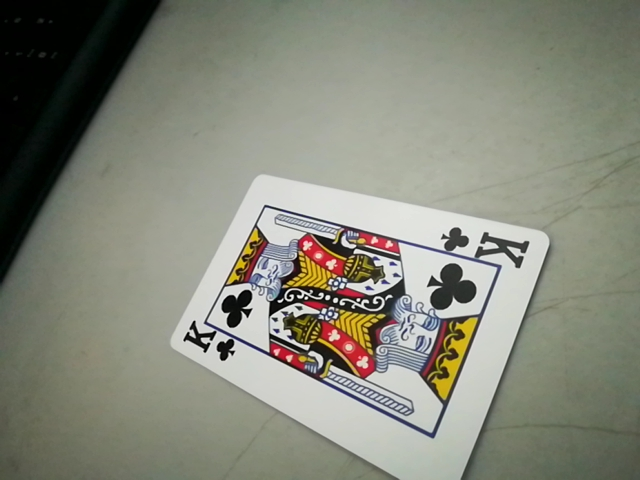mh k: (434, 225, 538, 262), (176, 321, 240, 365)
